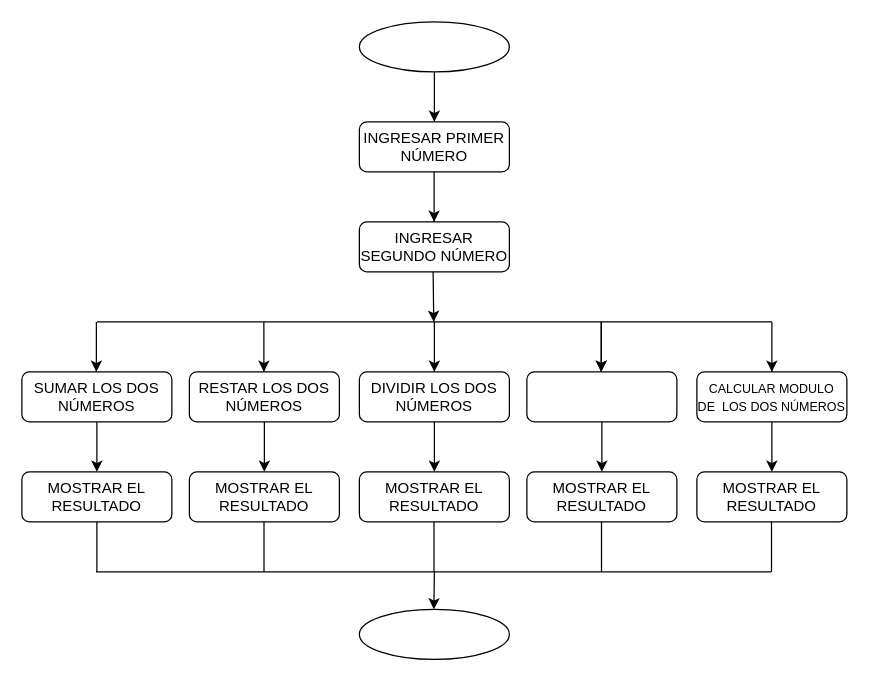
The diagram is 869 pixels wide and 681 high, and some of its shapes have lost their labels. Here are the shapes that lost their labels. From the top down, the centre of each, then its label:
[433,46]: INICIO
[601,396]: MULTIPLICAR LOS DOS NÚMEROS
[433,633]: FIN
